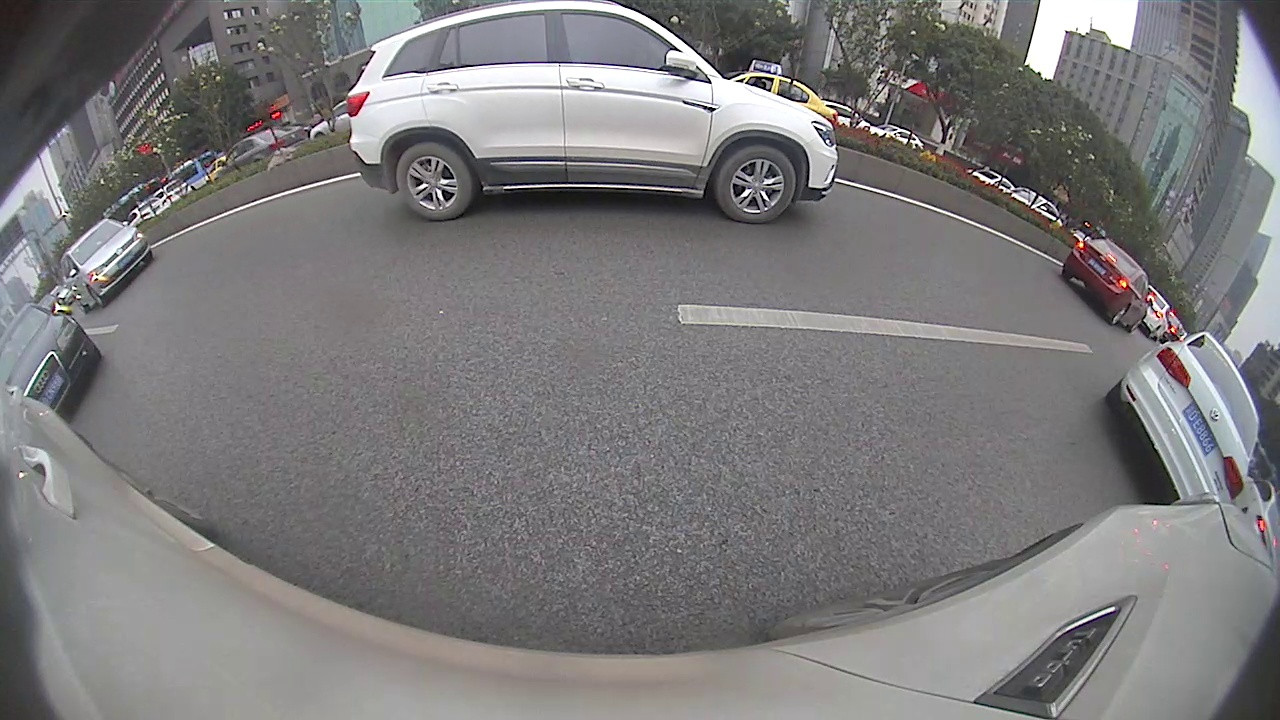car: (348, 1, 840, 226), (1104, 330, 1261, 508), (2, 302, 101, 417), (59, 218, 153, 311), (1062, 238, 1153, 332)
front: (717, 145, 796, 223)
rear: (398, 143, 475, 222), (1108, 303, 1130, 325)
